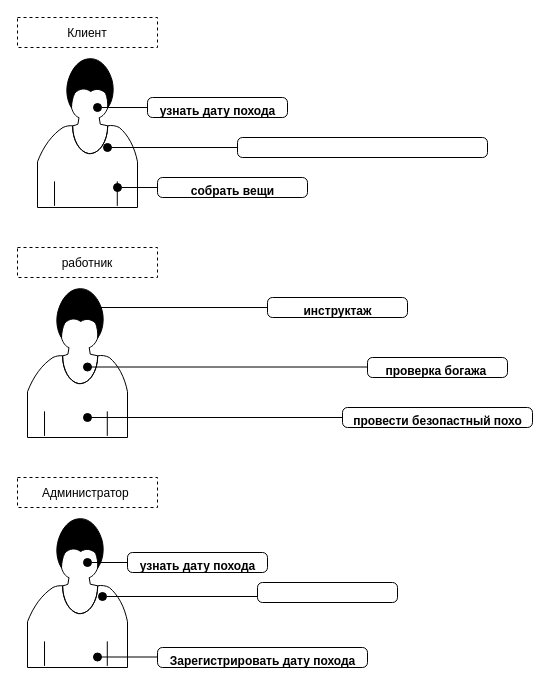
The diagram is 550 pixels wide and 686 high, and some of its shapes have lost their labels. The box of each missing label's shape, as (x1, y1, x2, y2) in pixels:
консультация: (256, 582, 398, 602)
получить информацию: (236, 136, 488, 158)
